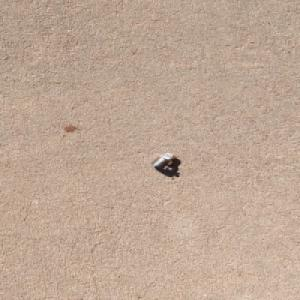MetalPart: (149, 152, 177, 172)
